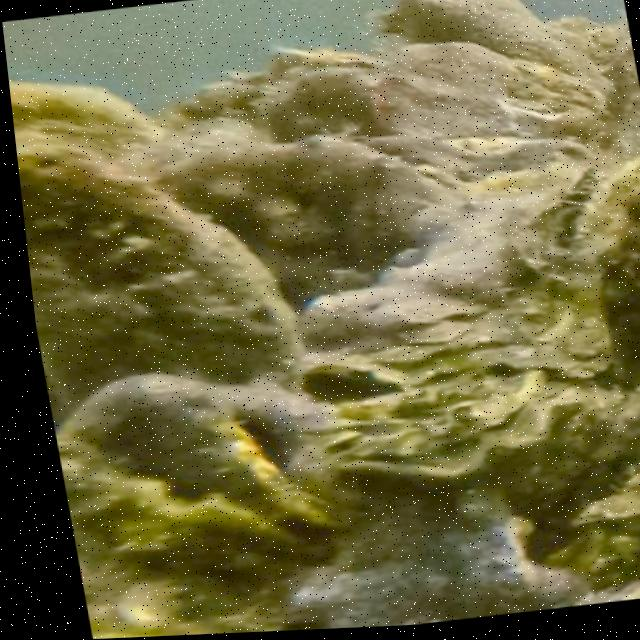Oyster-Closed: (9, 83, 152, 158)
Oyster-Indeterminate: (17, 150, 306, 439), (147, 135, 455, 323), (395, 44, 618, 136), (604, 201, 640, 384)
Oyster-Open: (324, 365, 554, 472)
